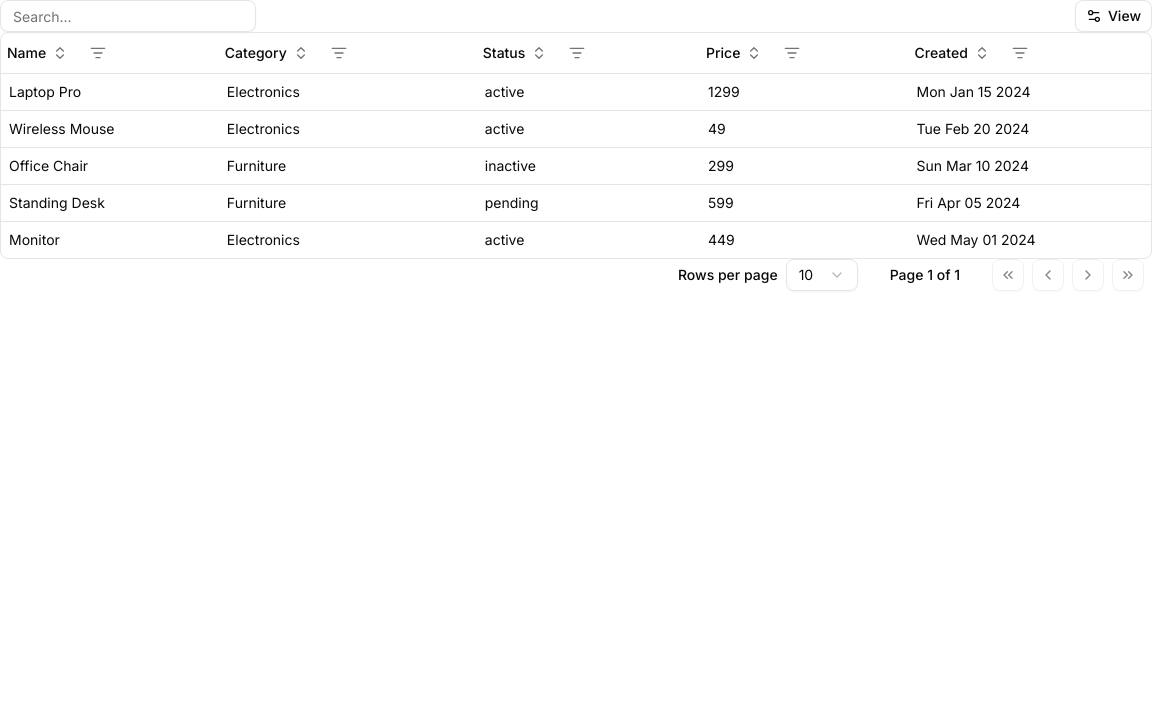
text filter › filters case-insensitively and clears
Click the button named "Filter Name": point(98, 53) [82,37,114,69]
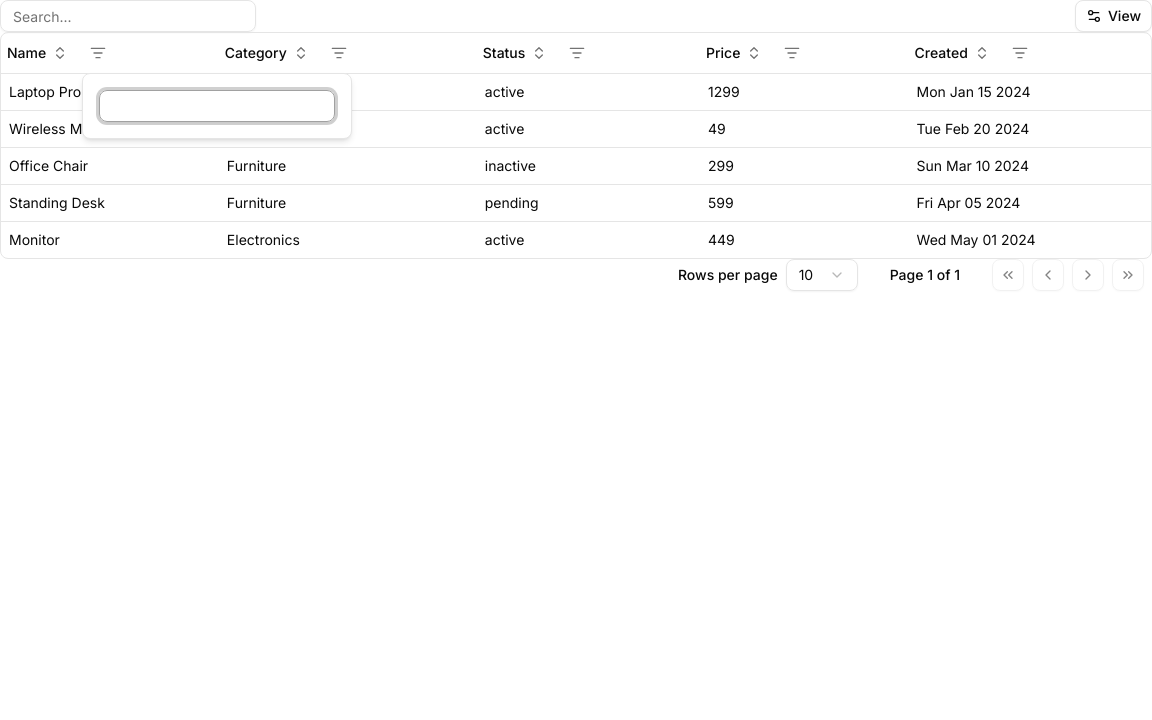
In the field: point(217, 106) [99,90,335,122], type "DESK"
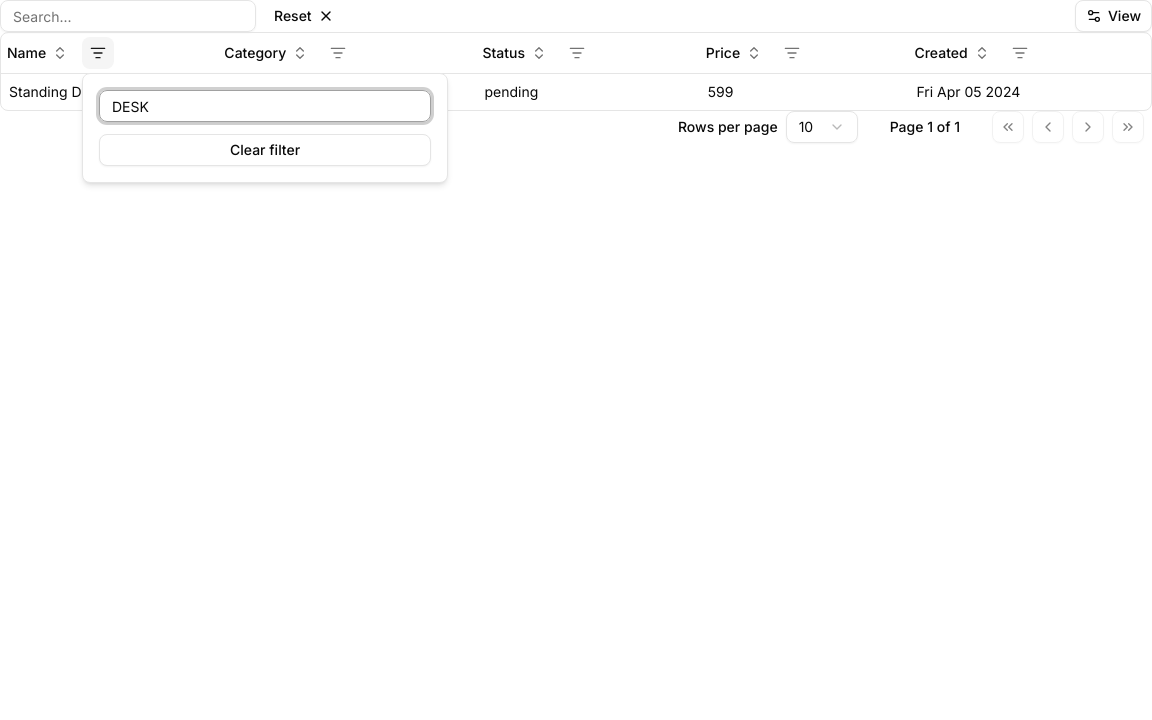
Expected: the button named "Filter Name" has attribute data-active="true", [82,37,114,69]
Click the button "Clear filter": point(265, 150) [99,134,431,166]
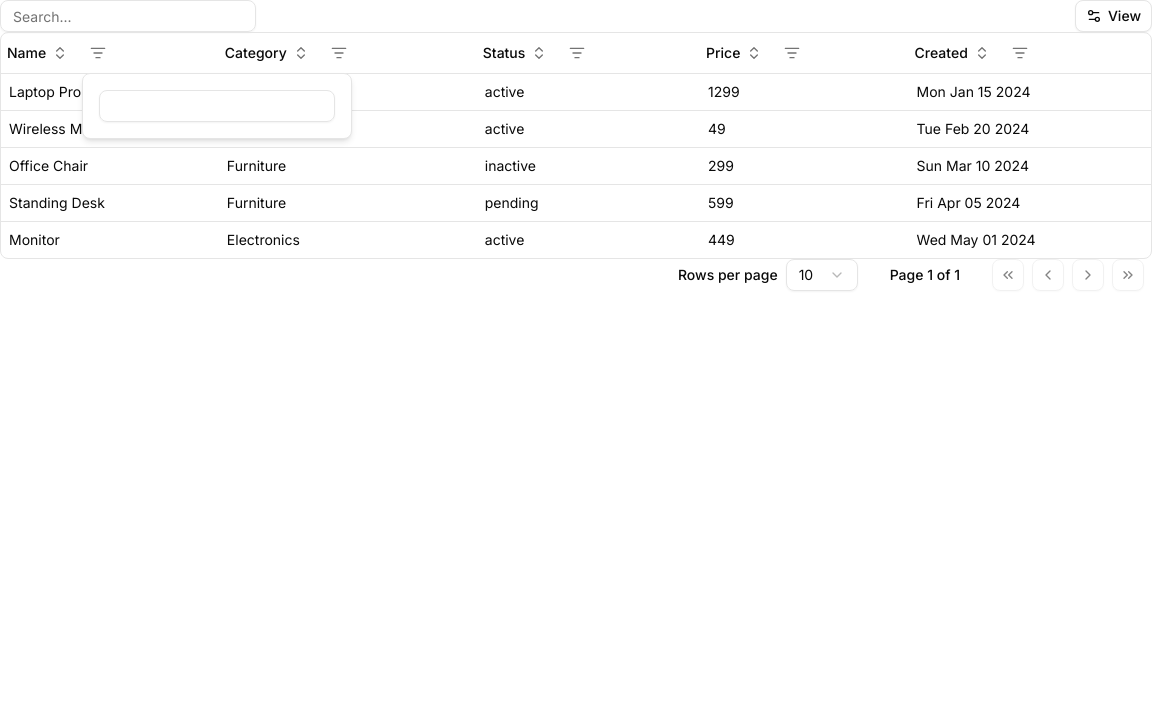
Expected: the field is empty, [99,90,335,122]
